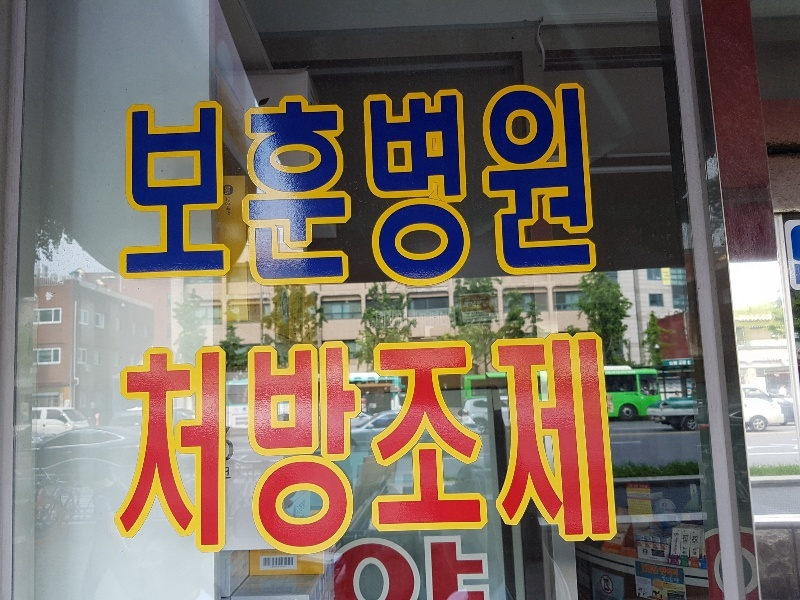text: (129, 325, 144, 559), (145, 325, 160, 559), (161, 325, 176, 559), (177, 325, 192, 559), (193, 325, 208, 559), (209, 325, 224, 559), (225, 325, 240, 559), (241, 325, 256, 559), (257, 325, 272, 559), (273, 325, 288, 559), (289, 325, 304, 559), (305, 325, 320, 559), (321, 325, 336, 559), (337, 325, 352, 559), (353, 325, 368, 559), (369, 325, 384, 559), (385, 325, 400, 559), (401, 325, 416, 559), (417, 325, 432, 559), (433, 325, 448, 559), (449, 325, 464, 559), (465, 325, 480, 559), (481, 325, 496, 559), (497, 325, 512, 559), (513, 325, 528, 559), (529, 325, 544, 559), (545, 325, 560, 559), (561, 325, 576, 559), (577, 325, 592, 559), (593, 325, 608, 559), (129, 79, 144, 291), (145, 79, 160, 291), (161, 79, 176, 291), (177, 79, 192, 291), (193, 79, 208, 291), (209, 79, 224, 291), (225, 79, 240, 291), (241, 79, 256, 291), (257, 79, 272, 291), (273, 79, 288, 291), (289, 79, 304, 291), (305, 79, 320, 291), (321, 79, 336, 291), (337, 79, 352, 291), (353, 79, 368, 291), (369, 79, 384, 291), (385, 79, 400, 291), (401, 79, 416, 291), (417, 79, 432, 291), (433, 79, 448, 291), (449, 79, 464, 291), (465, 79, 480, 291), (481, 79, 496, 291), (497, 79, 512, 291), (513, 79, 528, 291), (529, 79, 544, 291), (545, 79, 560, 291), (561, 79, 576, 291), (577, 79, 592, 291), (115, 325, 128, 559), (609, 325, 617, 559), (593, 79, 600, 291), (225, 426, 240, 481), (126, 79, 128, 291), (641, 563, 656, 584), (657, 563, 672, 584), (226, 197, 240, 216), (673, 563, 680, 584), (225, 186, 240, 194), (297, 499, 304, 516), (673, 360, 688, 367), (628, 484, 640, 489), (641, 484, 648, 489), (669, 360, 672, 367), (689, 360, 692, 367)
